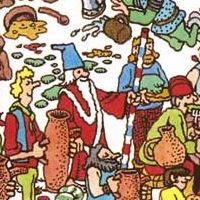wb: (59, 42, 89, 85)
